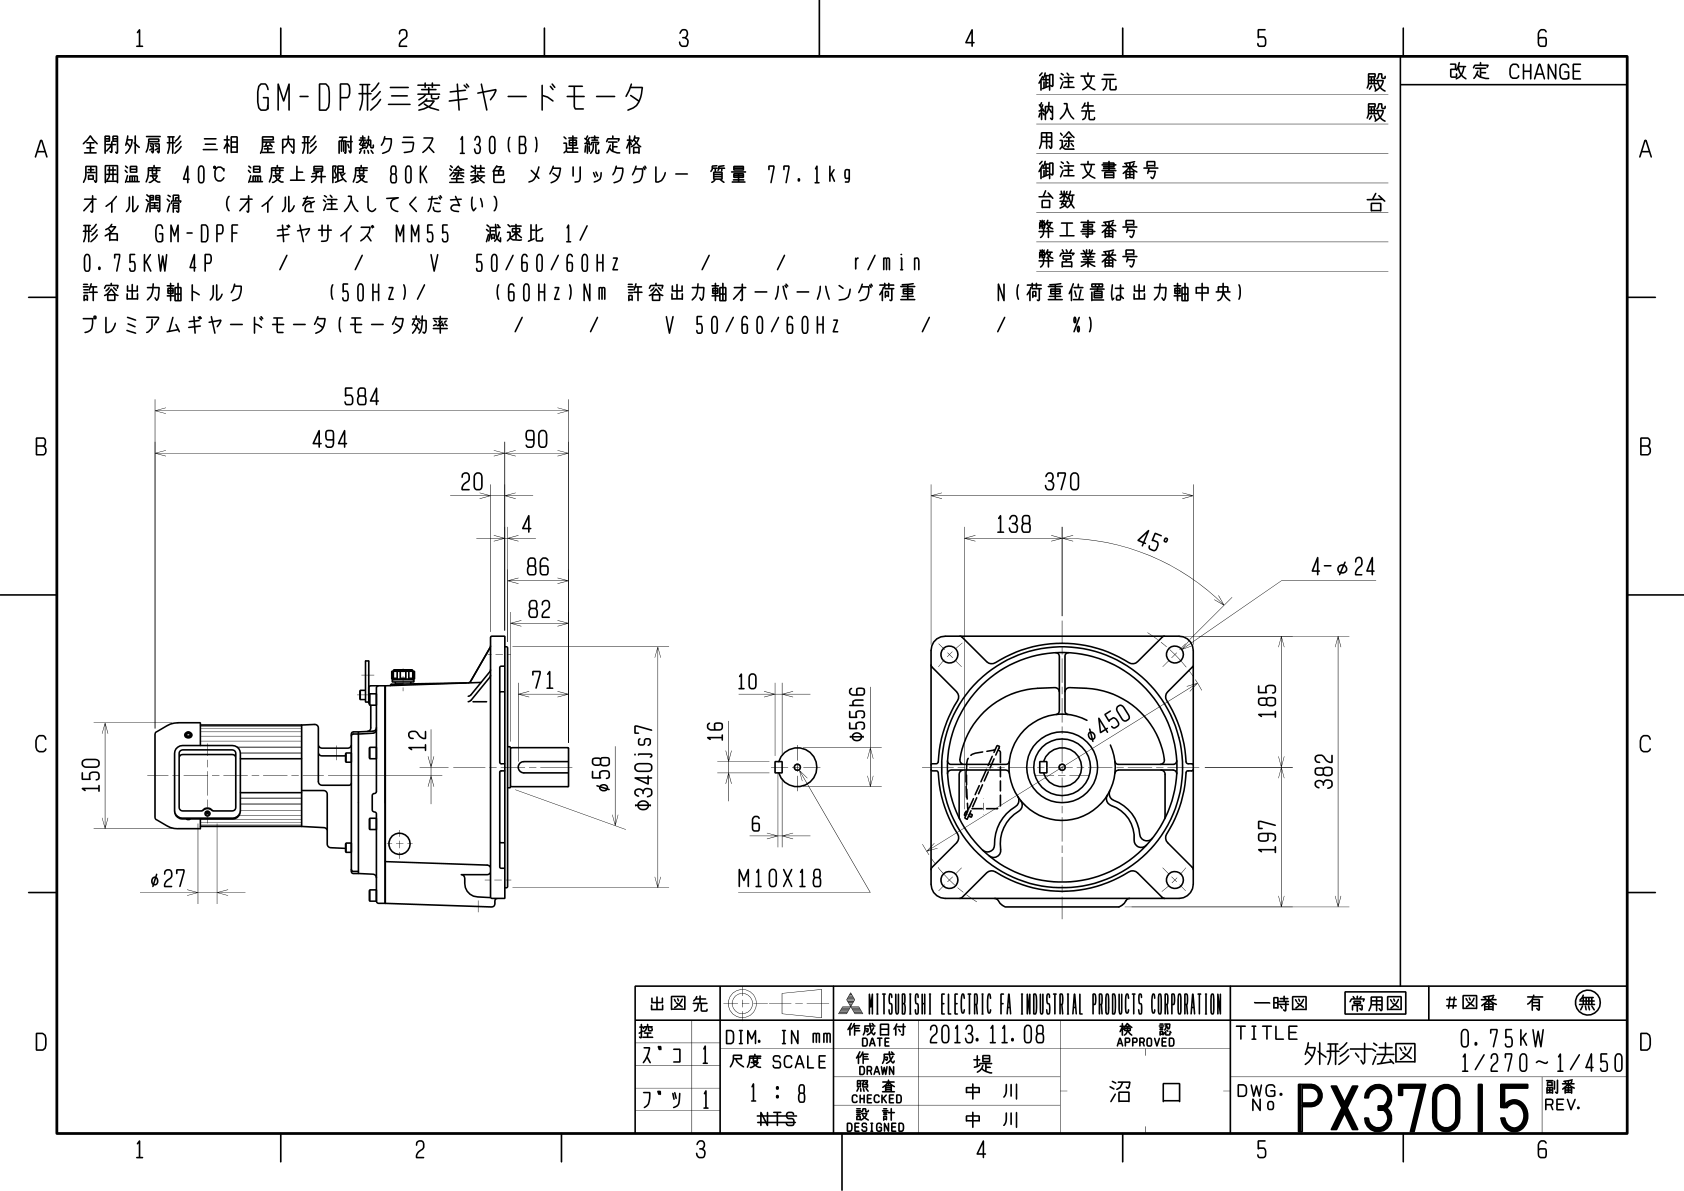GM_DP_屋内_三相_フランジ: (71, 360, 1386, 944)
